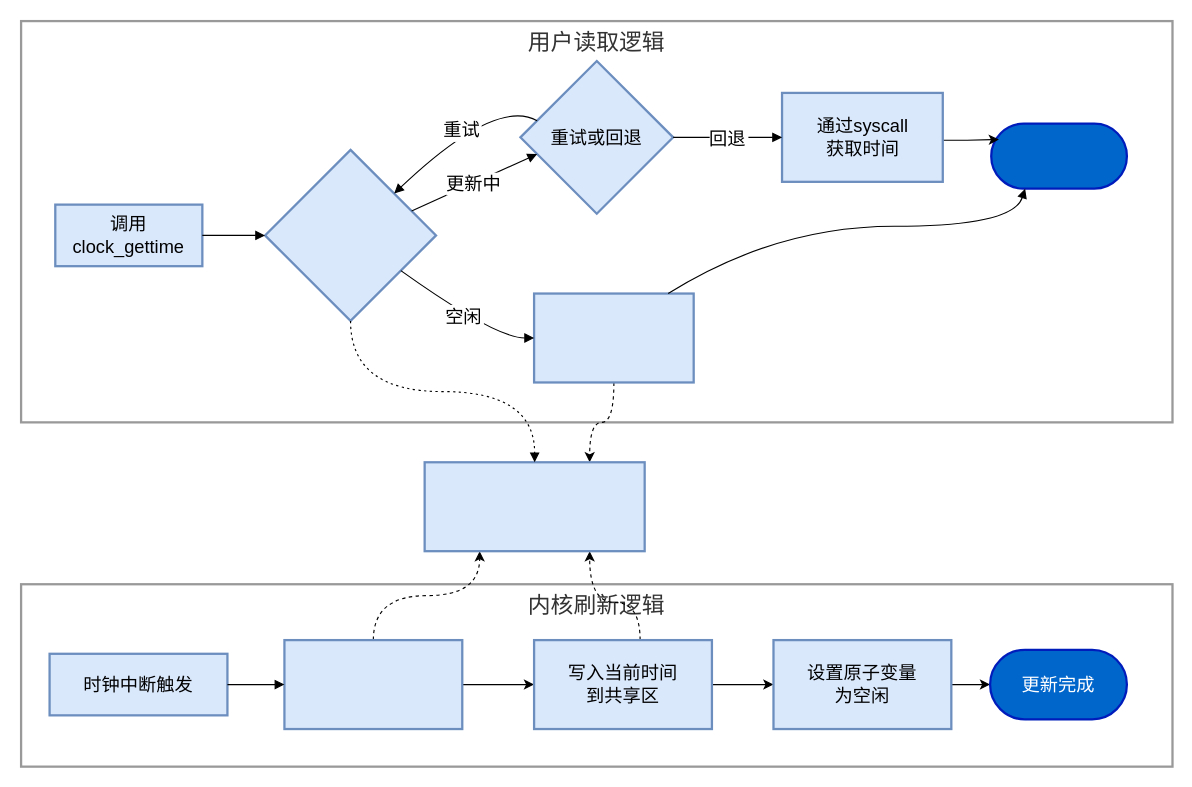
Image size: 1192x787. Some labels were removed from this diagram. Here are the shapes that lost their labels. From the top down, the centre of each, then its label:
At (x=1058, y=155): "调用完成".
At (x=350, y=234): "原子变量 是否空闲?".
At (x=613, y=337): "从共享区 读取时间值".
At (x=534, y=506): "共享时间快照 原子状态 + 时间值".
At (x=373, y=684): "设置原子变量 为更新中".
